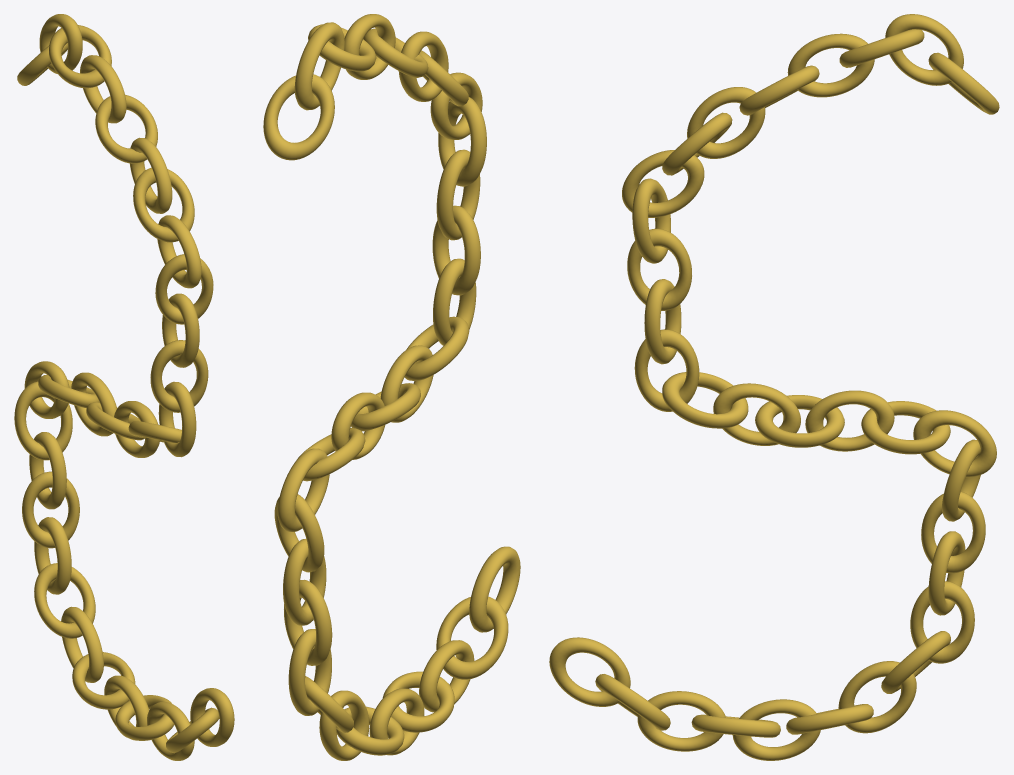
File: chain.dae
3 renders of one model, left to right at view 1: azimuth 30°, elevation 25°; view 2: azimuth 150°, elevation 25°; view 3: azimuth 270°, elevation 25°, orthographic. The views are drawn at different scales.
Visible parts, largest first — view 1: Torus_020, Torus_029, Torus_015, Torus_002, Torus_004, Torus_012, Torus_001, Torus_018, Torus_021, Torus_028, Torus_013, Torus_005 (+18 smaller); view 2: Torus_017, Torus_024, Torus_025, Torus_016, Torus_002, Torus_010, Torus, Torus_001, Torus_014, Torus_003, Torus_013, Torus_015 (+18 smaller); view 3: Torus_025, Torus_010, Torus_009, Torus_006, Torus_007, Torus_022, Torus_026, Torus_008, Torus_019, Torus_016, Torus_028, Torus_005 (+18 smaller).
Boxes of the visible parts, x1=… form: Torus_020: x1=34, y1=563, x2=95, y2=638; Torus_029: x1=133, y1=167, x2=194, y2=242; Torus_015: x1=22, y1=471, x2=79, y2=548; Torus_002: x1=150, y1=340, x2=208, y2=412; Torus_004: x1=95, y1=94, x2=157, y2=163; Torus_012: x1=14, y1=381, x2=72, y2=460; Torus_001: x1=155, y1=254, x2=213, y2=324; Torus_018: x1=49, y1=25, x2=111, y2=88; Torus_021: x1=61, y1=606, x2=103, y2=682; Torus_028: x1=129, y1=137, x2=172, y2=213; Torus_013: x1=29, y1=432, x2=66, y2=509; Torus_005: x1=157, y1=215, x2=201, y2=288; Torus_017: x1=263, y1=74, x2=334, y2=160; Torus_024: x1=436, y1=596, x2=508, y2=679; Torus_025: x1=469, y1=546, x2=520, y2=632; Torus_016: x1=294, y1=22, x2=344, y2=110; Torus_002: x1=432, y1=205, x2=480, y2=295; Torus_010: x1=277, y1=448, x2=329, y2=531; Torus: x1=436, y1=149, x2=480, y2=240; Torus_001: x1=438, y1=97, x2=486, y2=186; Torus_014: x1=288, y1=629, x2=331, y2=715; Torus_003: x1=433, y1=258, x2=476, y2=345; Torus_013: x1=283, y1=539, x2=326, y2=625; Torus_015: x1=284, y1=579, x2=332, y2=665; Torus_025: x1=549, y1=637, x2=630, y2=706; Torus_010: x1=913, y1=410, x2=996, y2=477; Torus_009: x1=805, y1=390, x2=894, y2=451; Torus_006: x1=713, y1=383, x2=800, y2=445; Torus_007: x1=662, y1=372, x2=748, y2=428; Torus_022: x1=732, y1=699, x2=820, y2=760; Torus_026: x1=637, y1=691, x2=725, y2=751; Torus_008: x1=755, y1=395, x2=844, y2=447; Torus_019: x1=787, y1=33, x2=874, y2=97; Torus_016: x1=885, y1=14, x2=963, y2=85; Torus_028: x1=687, y1=87, x2=765, y2=158; Torus_005: x1=622, y1=150, x2=704, y2=217.
Size of the model in its own units: 1.19 by 8.77 by 16.03.
